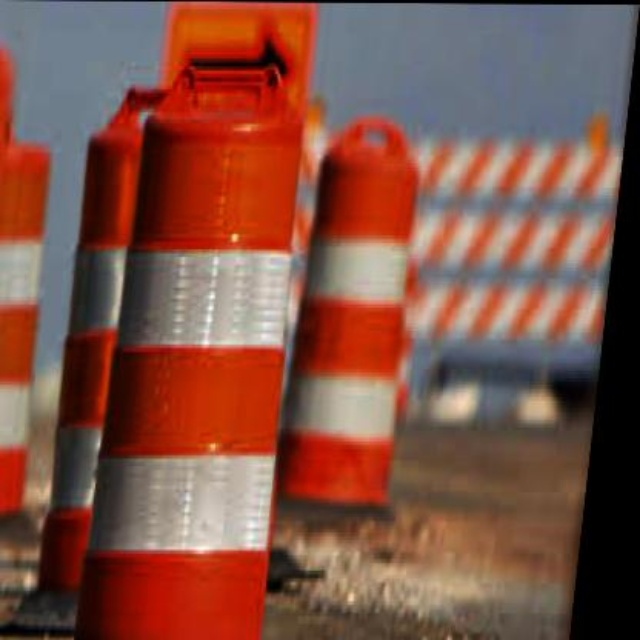obstacle: (82, 65, 325, 640)
